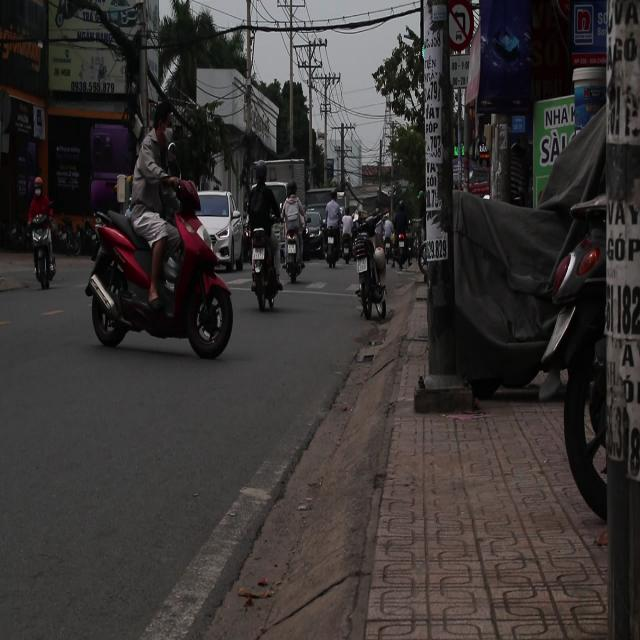car: (197, 192, 246, 271)
motorbike: (84, 194, 238, 359), (350, 212, 395, 340), (23, 168, 62, 301), (312, 186, 348, 282), (246, 224, 282, 310), (276, 216, 304, 285)
